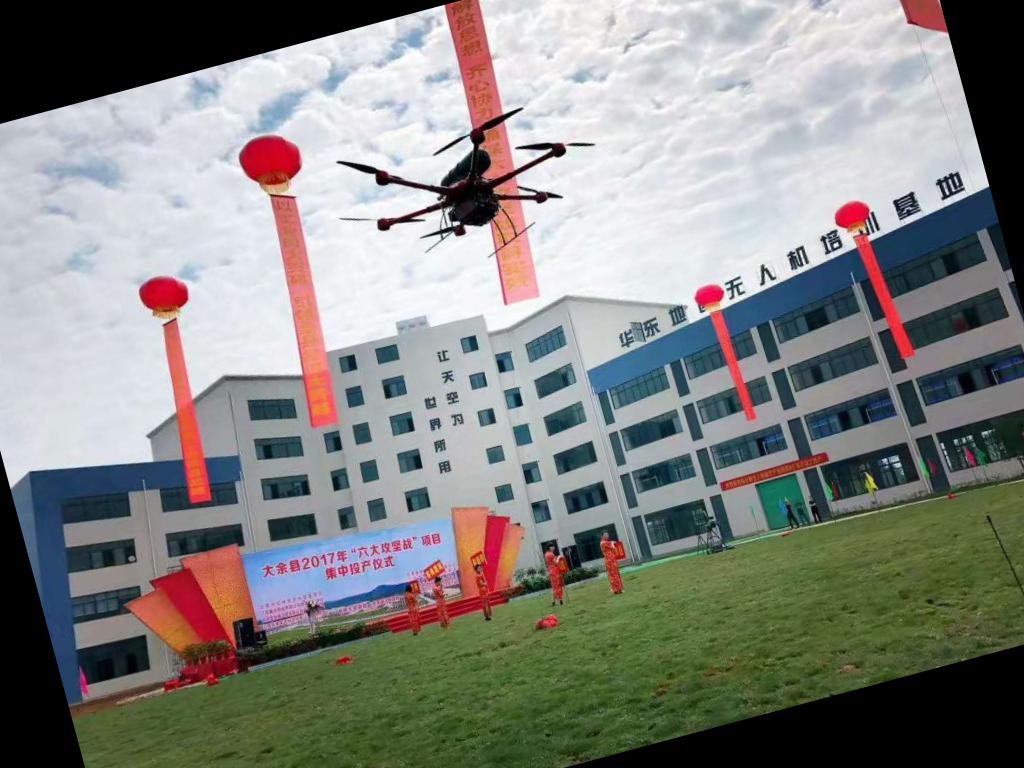drone: (312, 69, 624, 296)
